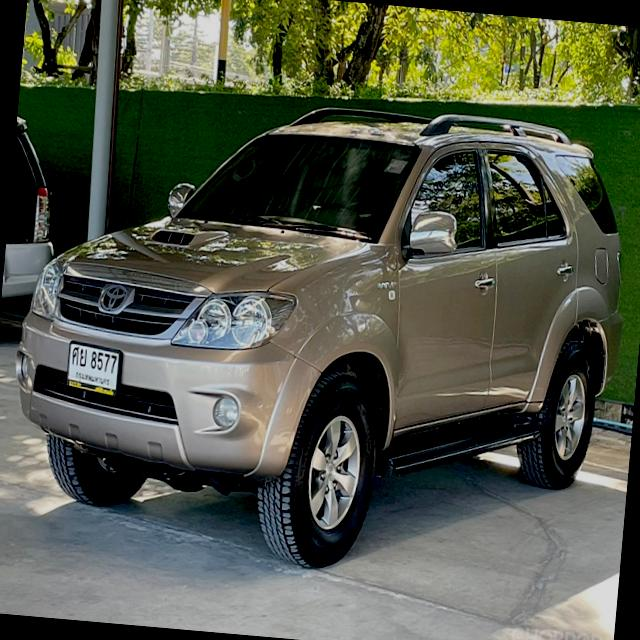license_plate: (57, 332, 128, 407)
